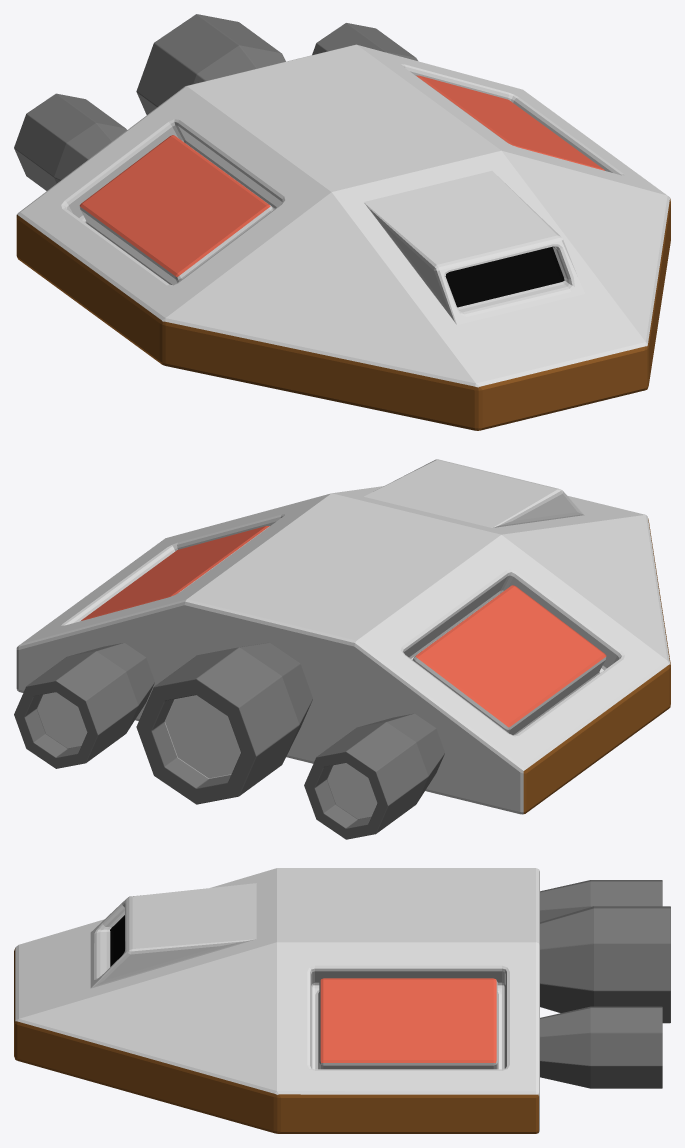
File: New Spaceship.fbx
The picture shows the model from 3 angles, top to bottom: view 1: azimuth 30°, elevation 25°; view 2: azimuth 150°, elevation 25°; view 3: azimuth 270°, elevation 25°; orthographic projection. The views are drawn at different scales.
Visible parts, largest first — view 1: SpaceShip, Circle.001, Circle; view 2: SpaceShip, Circle.001, Circle; view 3: SpaceShip, Circle, Circle.001.
Part boxes in pixels (left/top/right/bottom): SpaceShip: left=16, top=44, right=670, bottom=430; Circle.001: left=14, top=23, right=417, bottom=190; Circle: left=136, top=14, right=285, bottom=114; SpaceShip: left=16, top=459, right=670, bottom=814; Circle.001: left=14, top=642, right=444, bottom=839; Circle: left=136, top=642, right=312, bottom=804; SpaceShip: left=14, top=868, right=539, bottom=1133; Circle: left=540, top=906, right=670, bottom=1023; Circle.001: left=540, top=880, right=662, bottom=1088.
Size of the model in its own units: 200 by 50 by 250.
